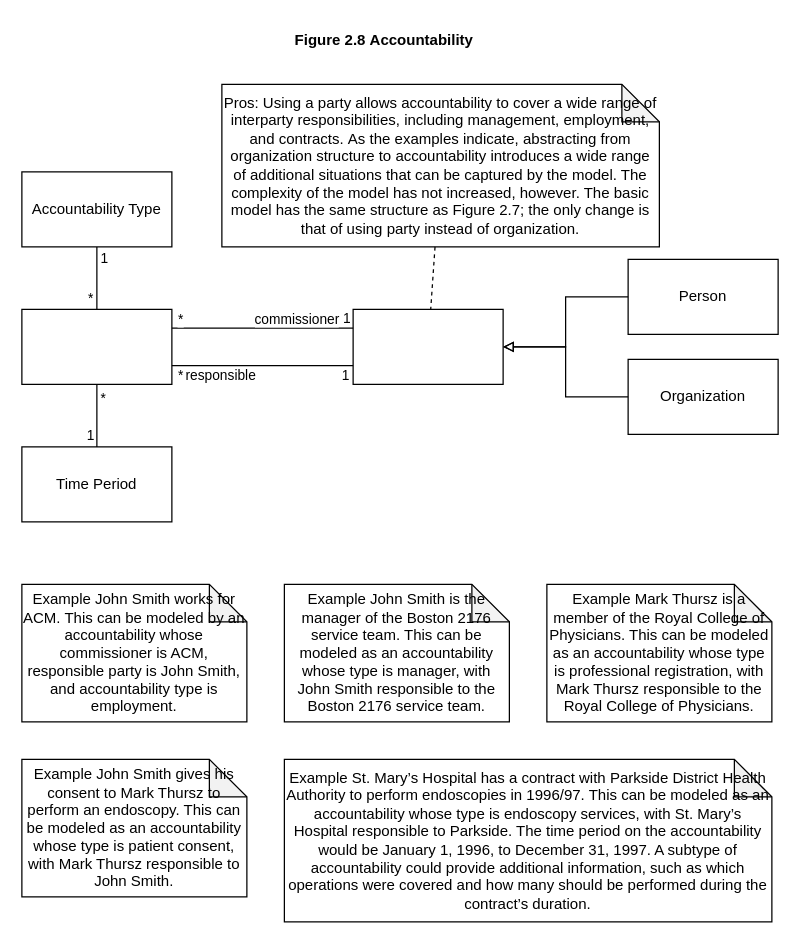
The diagram is 800 pixels wide and 944 high, and some of its shapes have lost their labels. The shapes that lost their labels are listed below. From the top down, each one's box as (x1, y1, x2, y2) in pixels, then its label:
(21, 308, 172, 384): Accountability
(352, 308, 503, 384): Party
